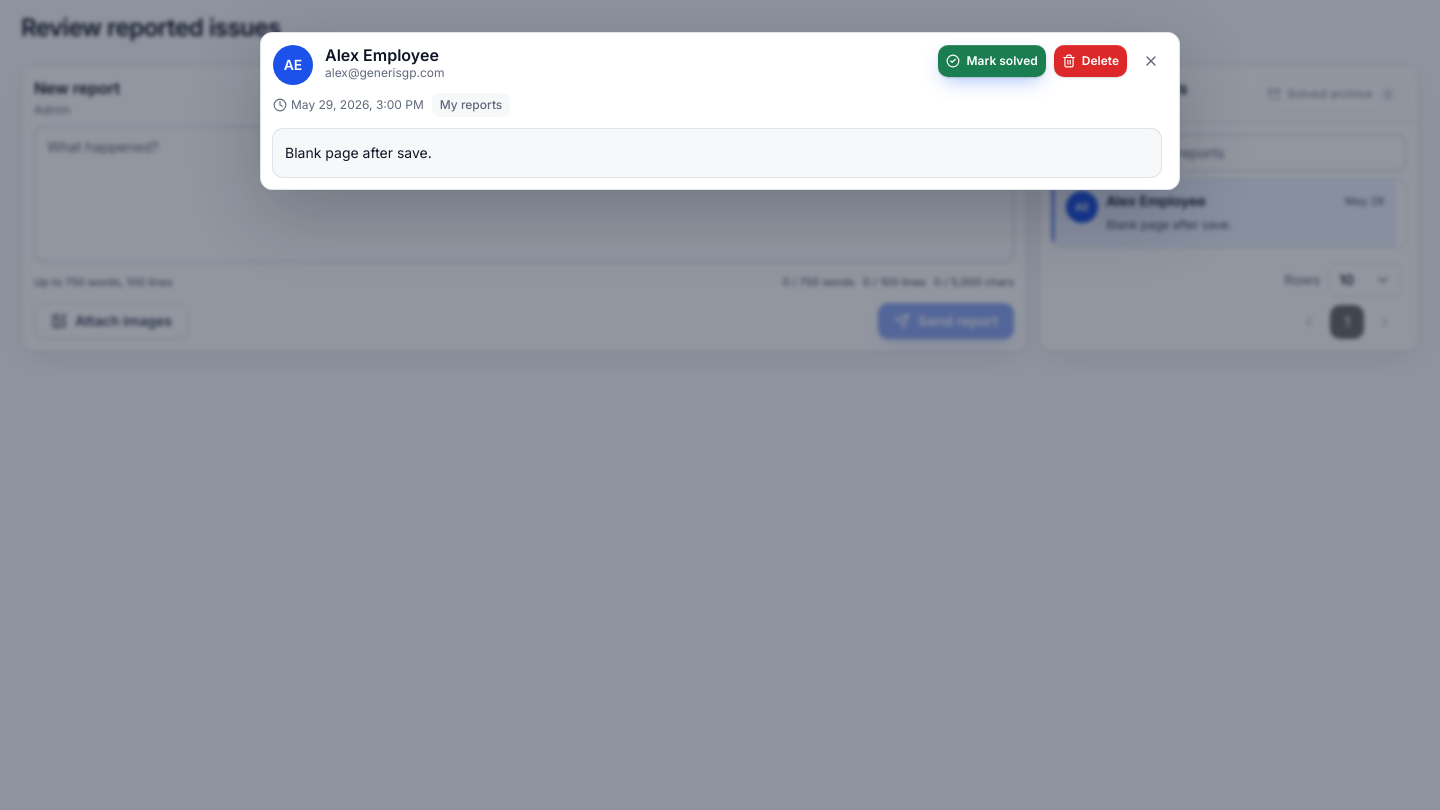
BugReportPage › lets admins delete bug reports from the report popup
Click the button "Delete" at (1090, 61), box [1054,45,1127,77]
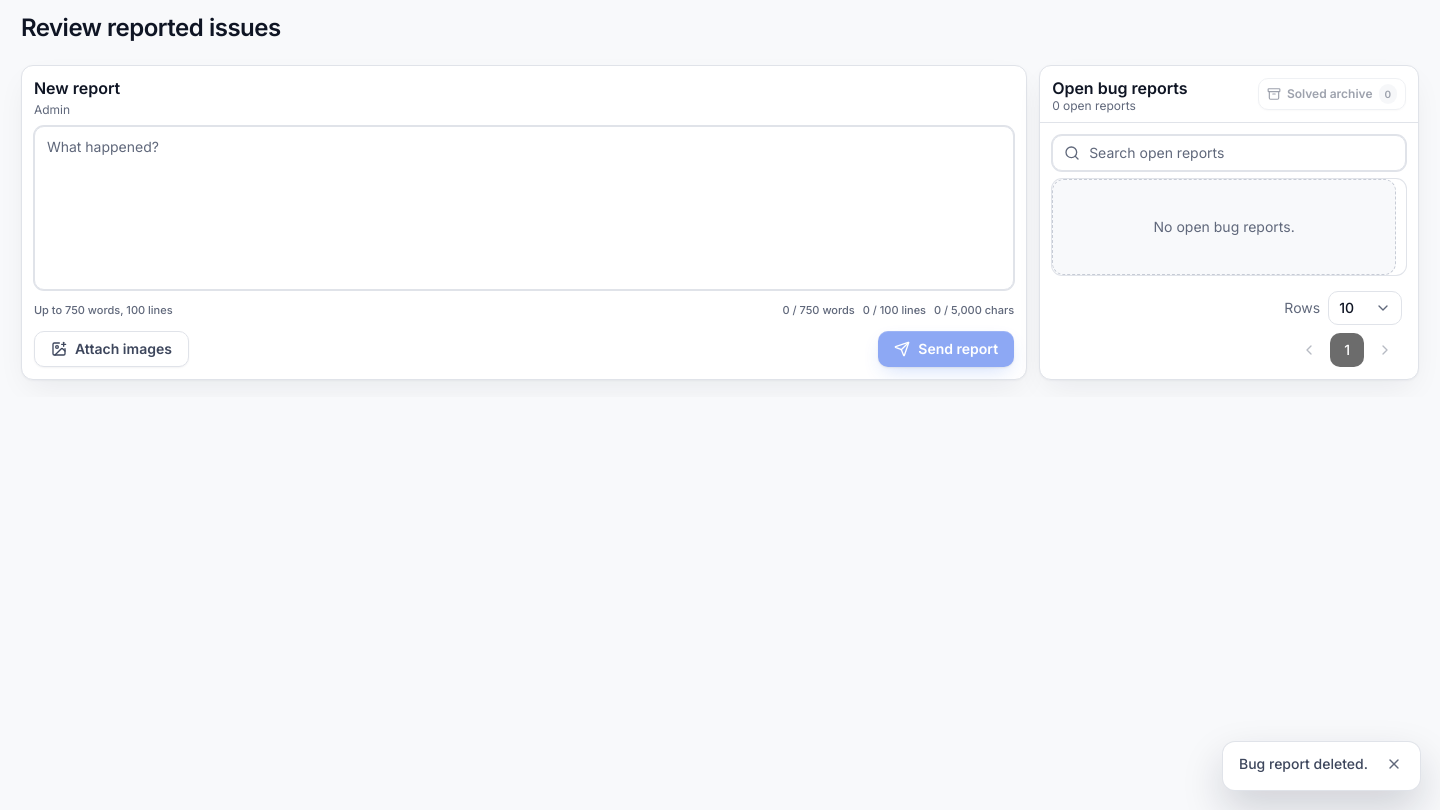
Check: the text "No open bug reports." is shown, box [1052,179,1396,275]
